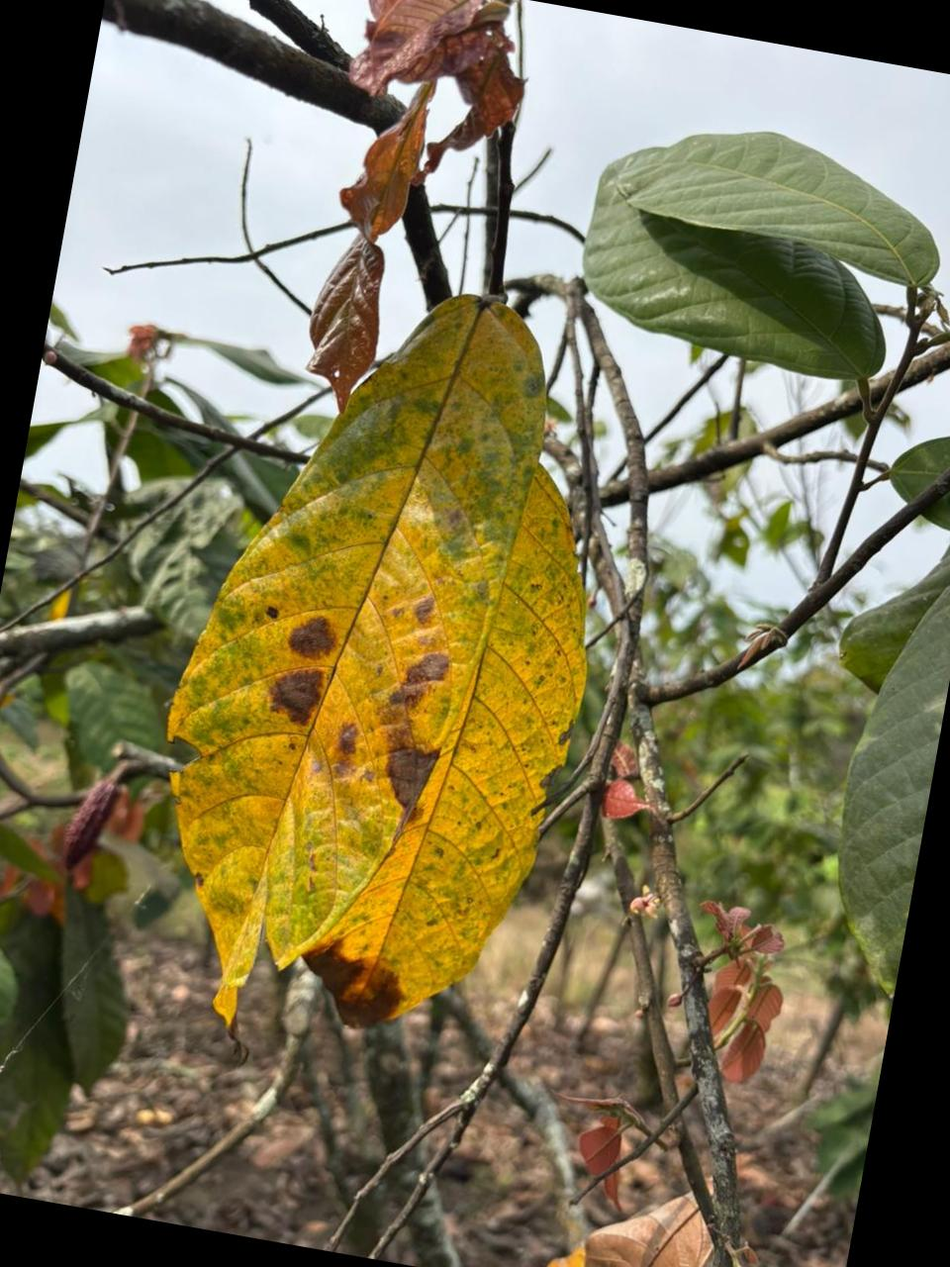Fosforo: (168, 296, 543, 1021)
